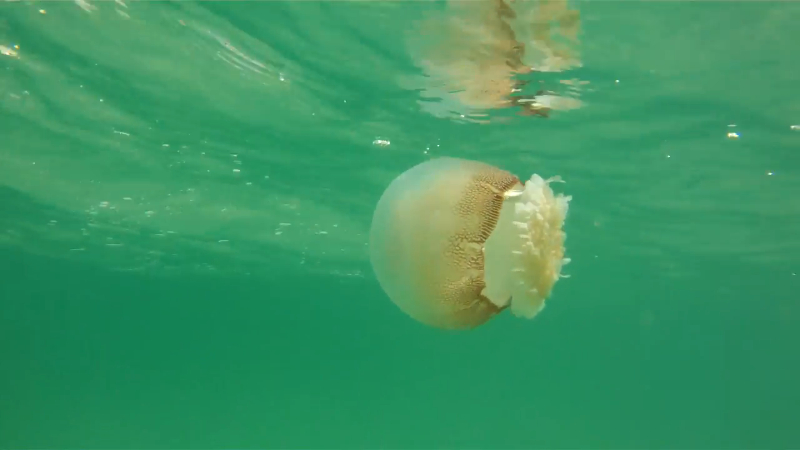yellow jellyfish: (356, 158, 577, 332)
